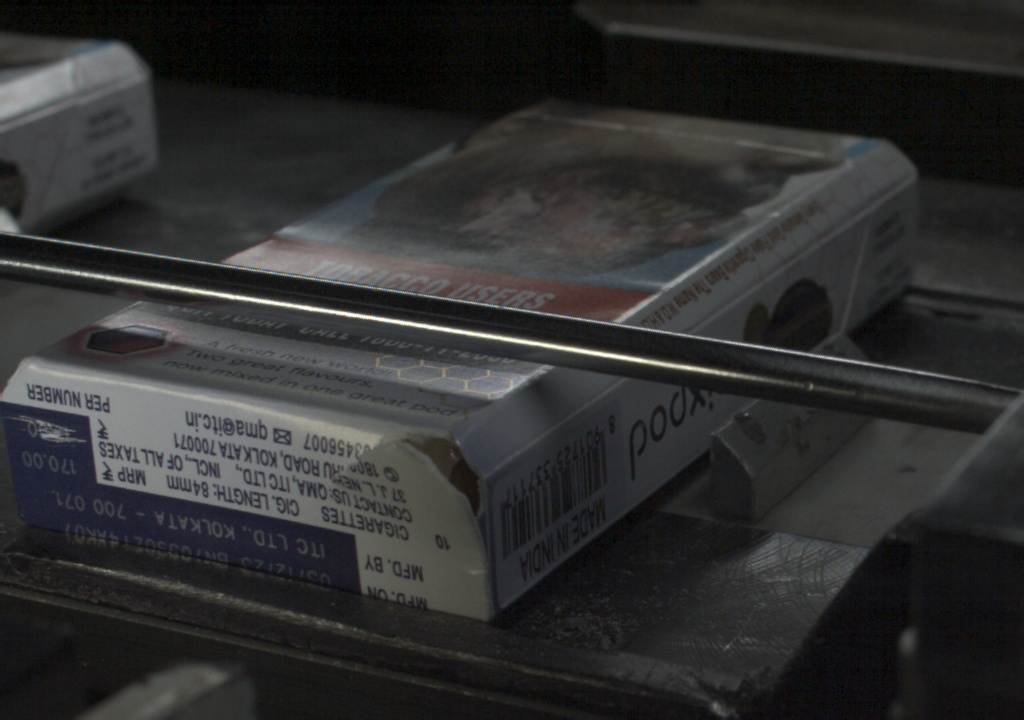g_label: (8, 482, 364, 597)
g_lmiter: (691, 266, 772, 330), (772, 212, 861, 266), (489, 428, 558, 478), (558, 378, 623, 428)
g_miter: (864, 166, 916, 210)
ng_bottom: (321, 423, 494, 622), (8, 409, 109, 465)
